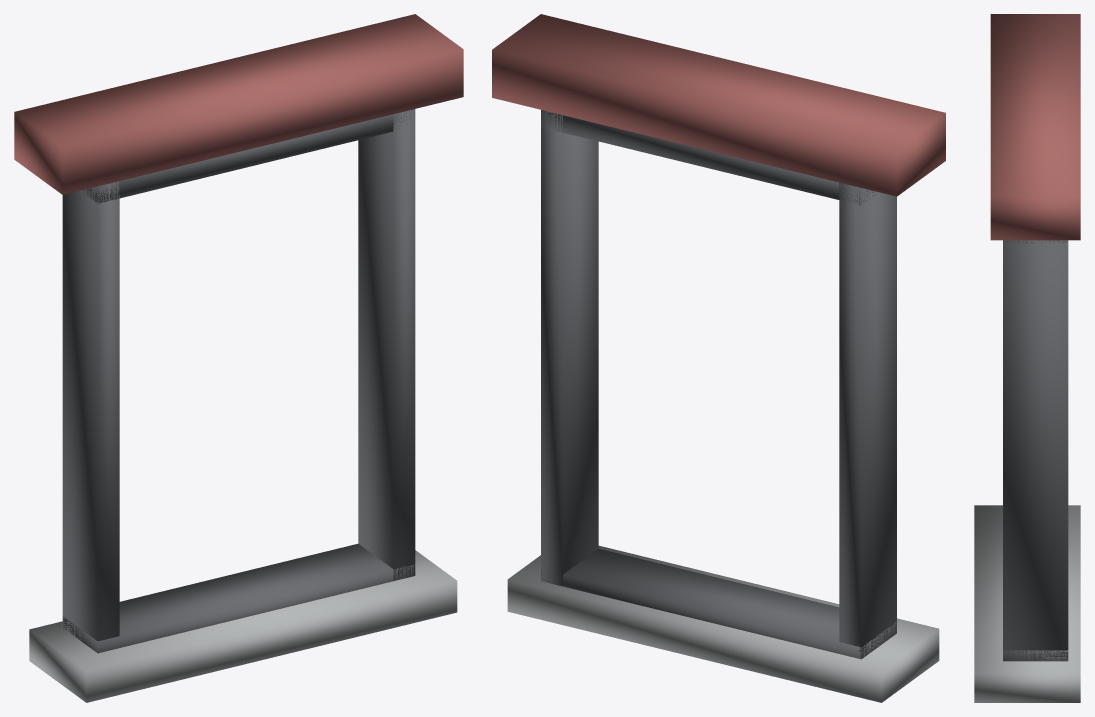
The model's file is egress_window_brick_w72_h110_s72_d16.glb.
The picture shows the model from 3 angles, left to right: view 1: azimuth 30°, elevation 25°; view 2: azimuth 150°, elevation 25°; view 3: azimuth 270°, elevation 25°; orthographic projection. The views are drawn at different scales.
Parts seen in each view (by area): view 1: world; view 2: world; view 3: world.
Boxes of the visible parts, box(x1,y1,x2,y2) form: world: box(14, 14, 463, 702); world: box(492, 14, 945, 702); world: box(974, 14, 1080, 702).
Size of the model in its own units: 1.06 by 1.39 by 0.26.
